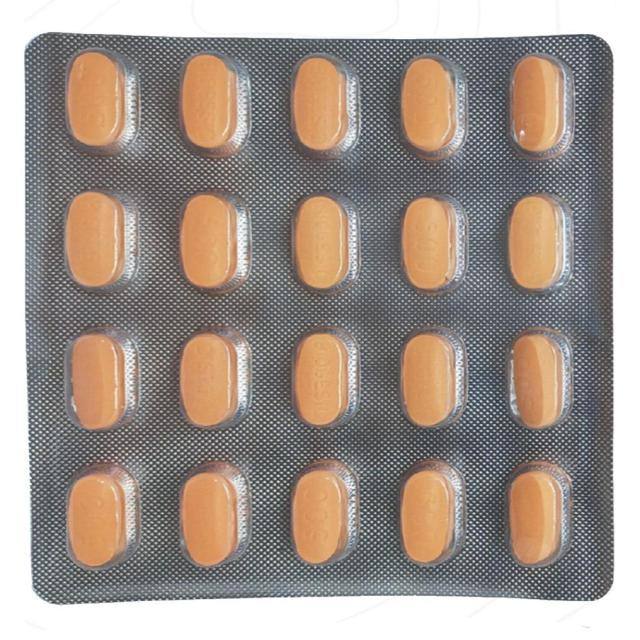blister: (23, 23, 621, 606)
